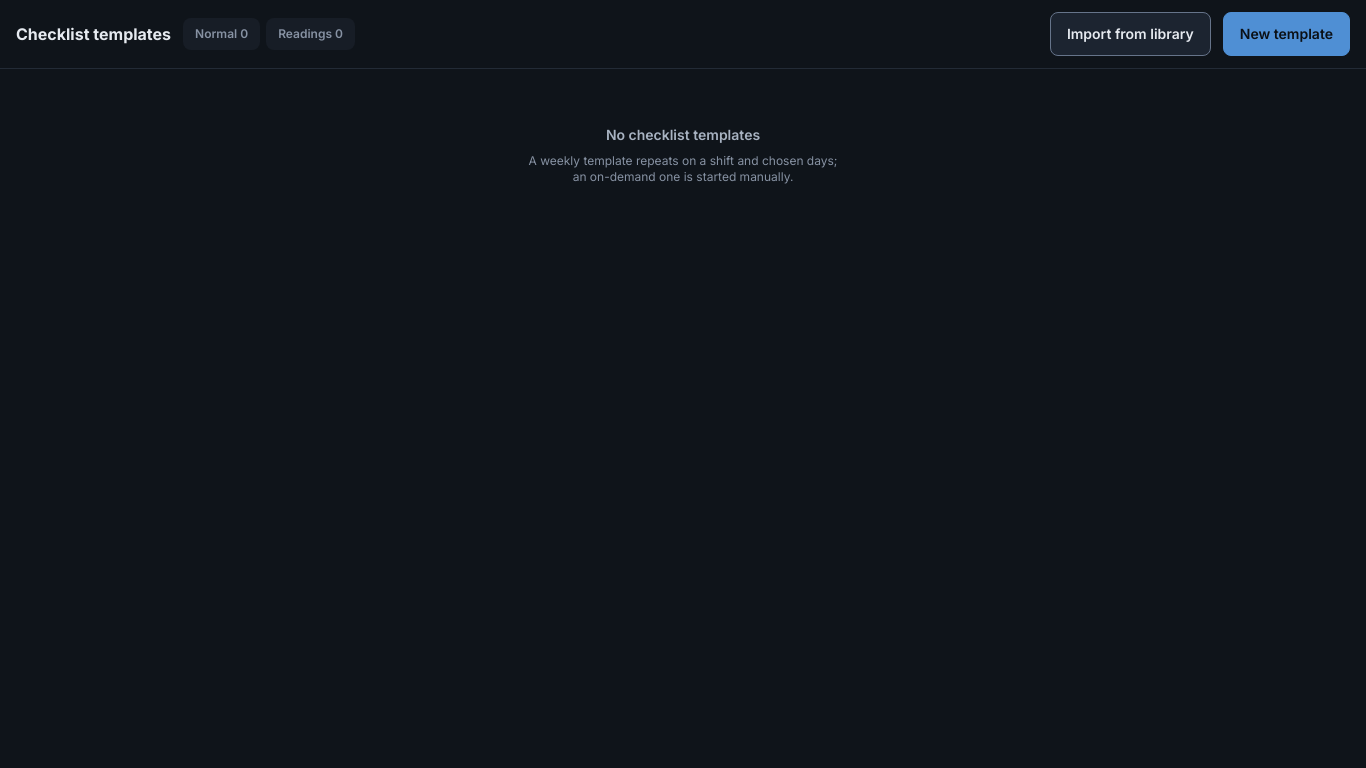
Test: Import from library › lists the starter checklists with their kind, categories and item count
The image size is (1366, 768).
Click the button "Import from library".
click(1130, 34)  # box [1050,12,1211,56]
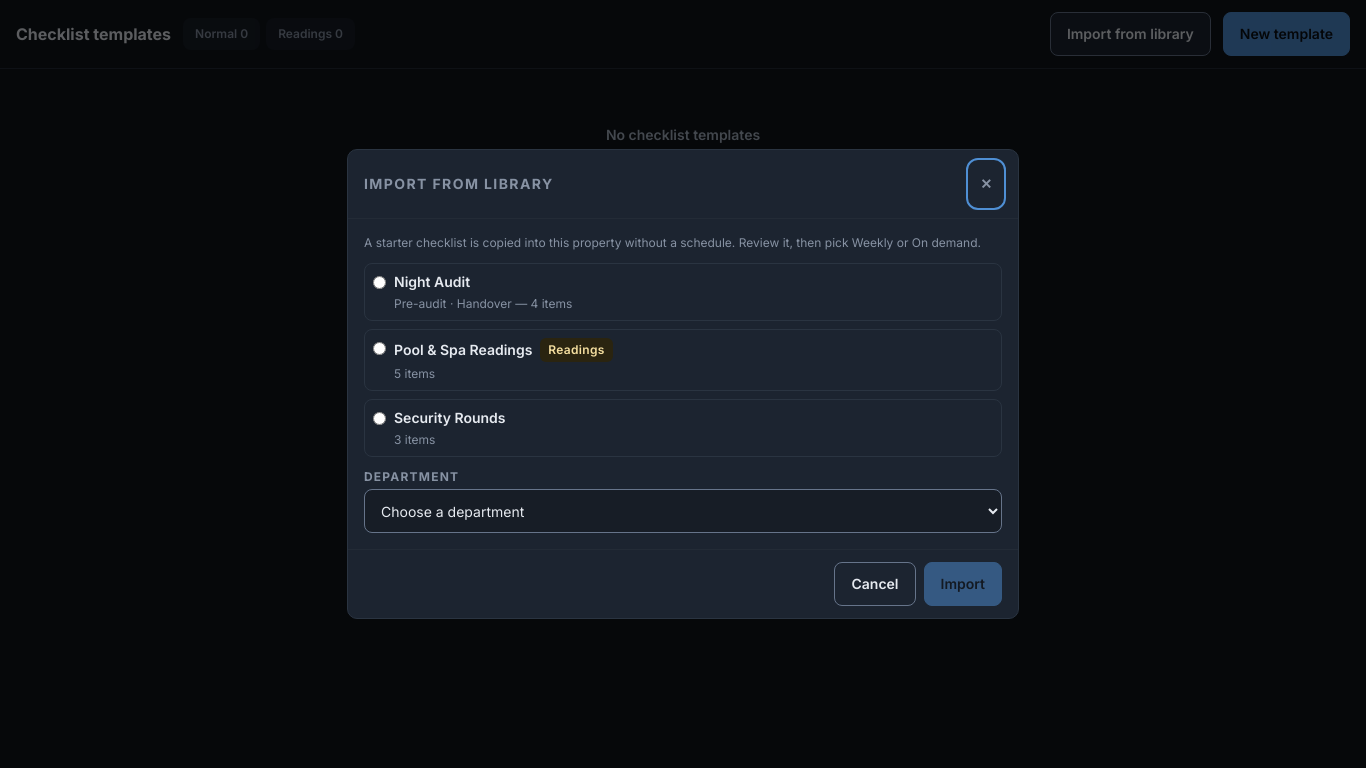
Check: the text "Pool & Spa Readings" is shown, box [394,341,532,358]
Check: the text "Pre-audit · Handover — 4 items" is shown, box [394,296,572,312]
Check: the text "5 items" is shown, box [394,366,435,381]
